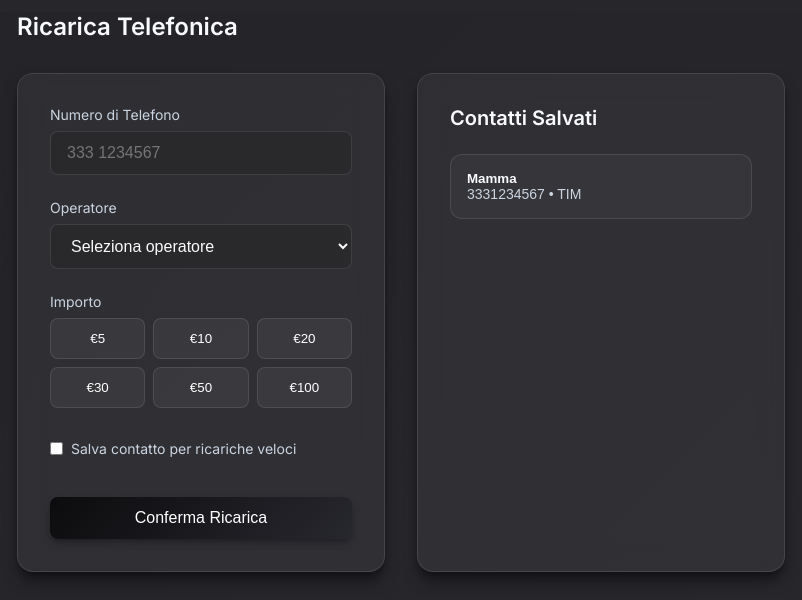
it: PhoneTopUp Page › submits top up successfully
Type "3339999999" into the field labelled "Numero di Telefono" at x=201, y=153, box [50,131,352,175]
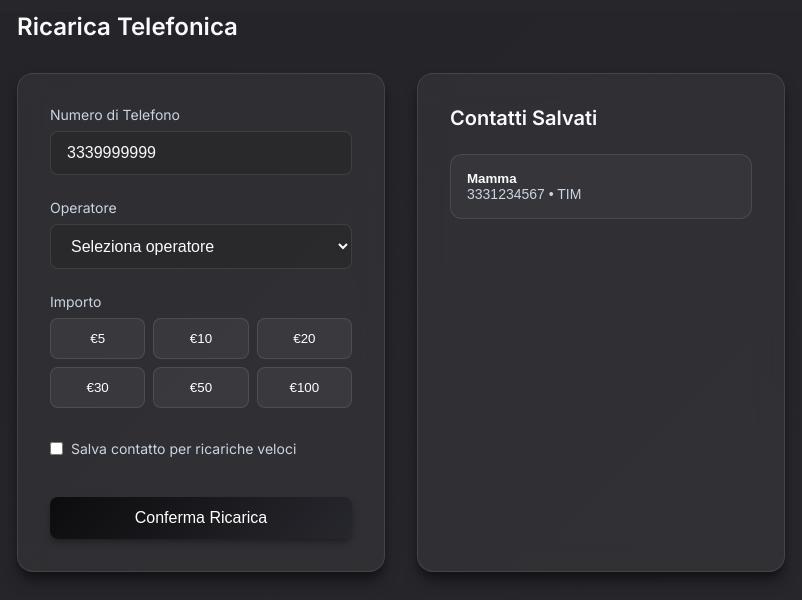
Select "Vodafone" in the dropdown labelled "Operatore" at x=201, y=246, box [50,224,352,269]
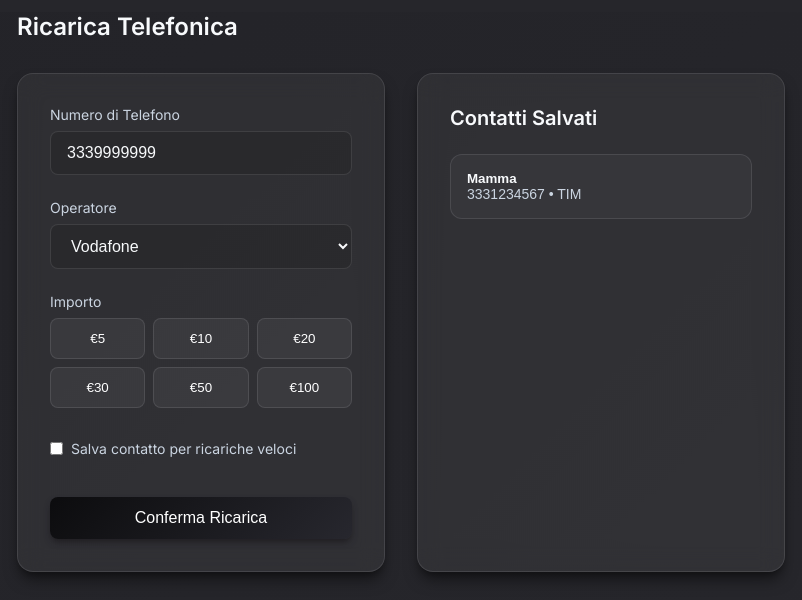
Click the button "€20" at x=304, y=338, box [257,318,352,359]
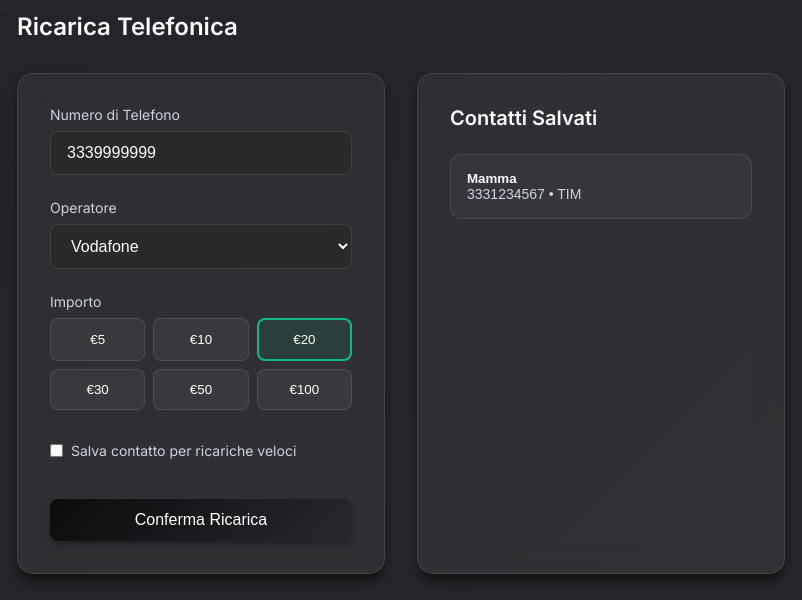
Click the button "Conferma Ricarica" at x=201, y=520, box [50,499,352,541]
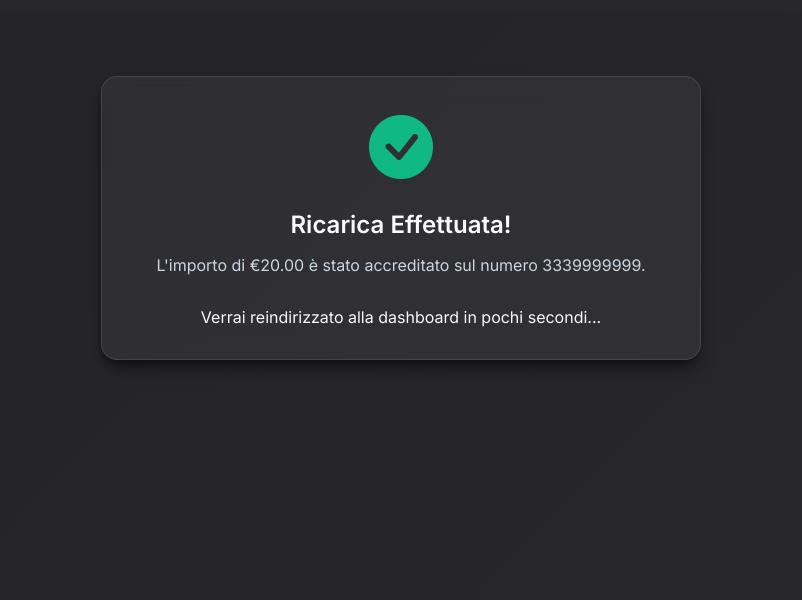
Result: the heading "Ricarica Effettuata!" is shown at [290,210,512,239]
